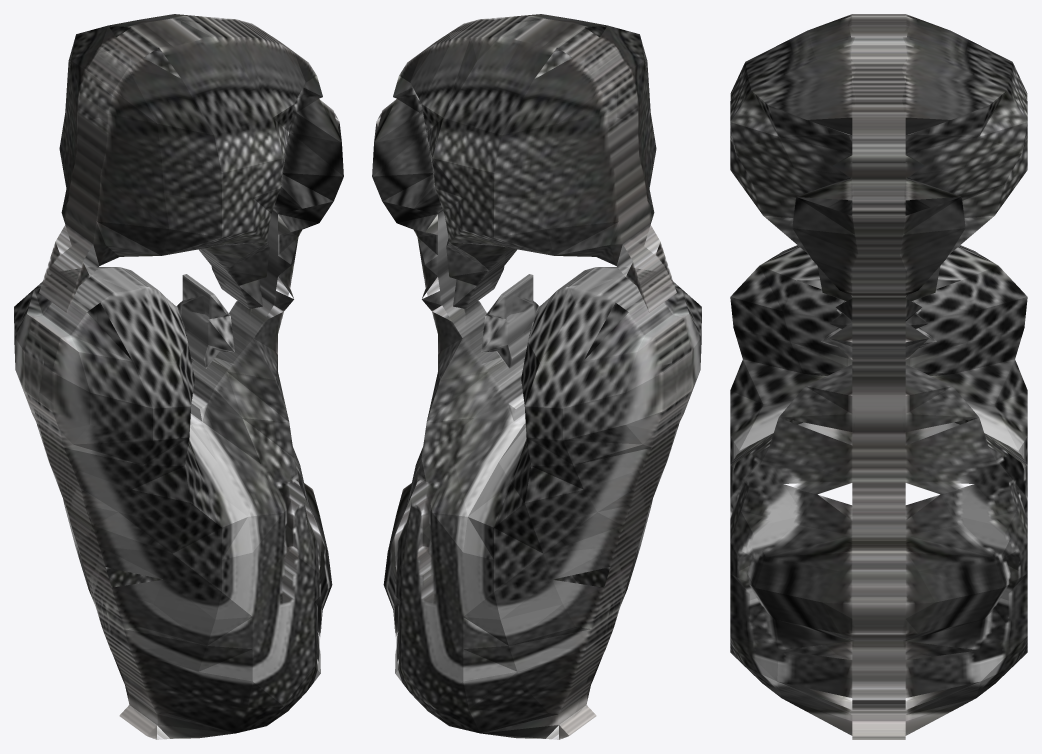
Rendered from oxford-apex-elbow-protector-163.glb.
The picture shows the model from 3 angles, left to right: view 1: azimuth 30°, elevation 25°; view 2: azimuth 150°, elevation 25°; view 3: azimuth 270°, elevation 25°; orthographic projection. The views are drawn at different scales.
Visible parts, largest first — view 1: world; view 2: world; view 3: world.
Boxes of the visible parts, x1,y1,x2,y2 form: world: [14, 14, 343, 739]; world: [372, 14, 701, 739]; world: [730, 14, 1027, 739].
Size of the model in its own units: 0.4321 by 1 by 0.4.
1 material, 1 textured.
